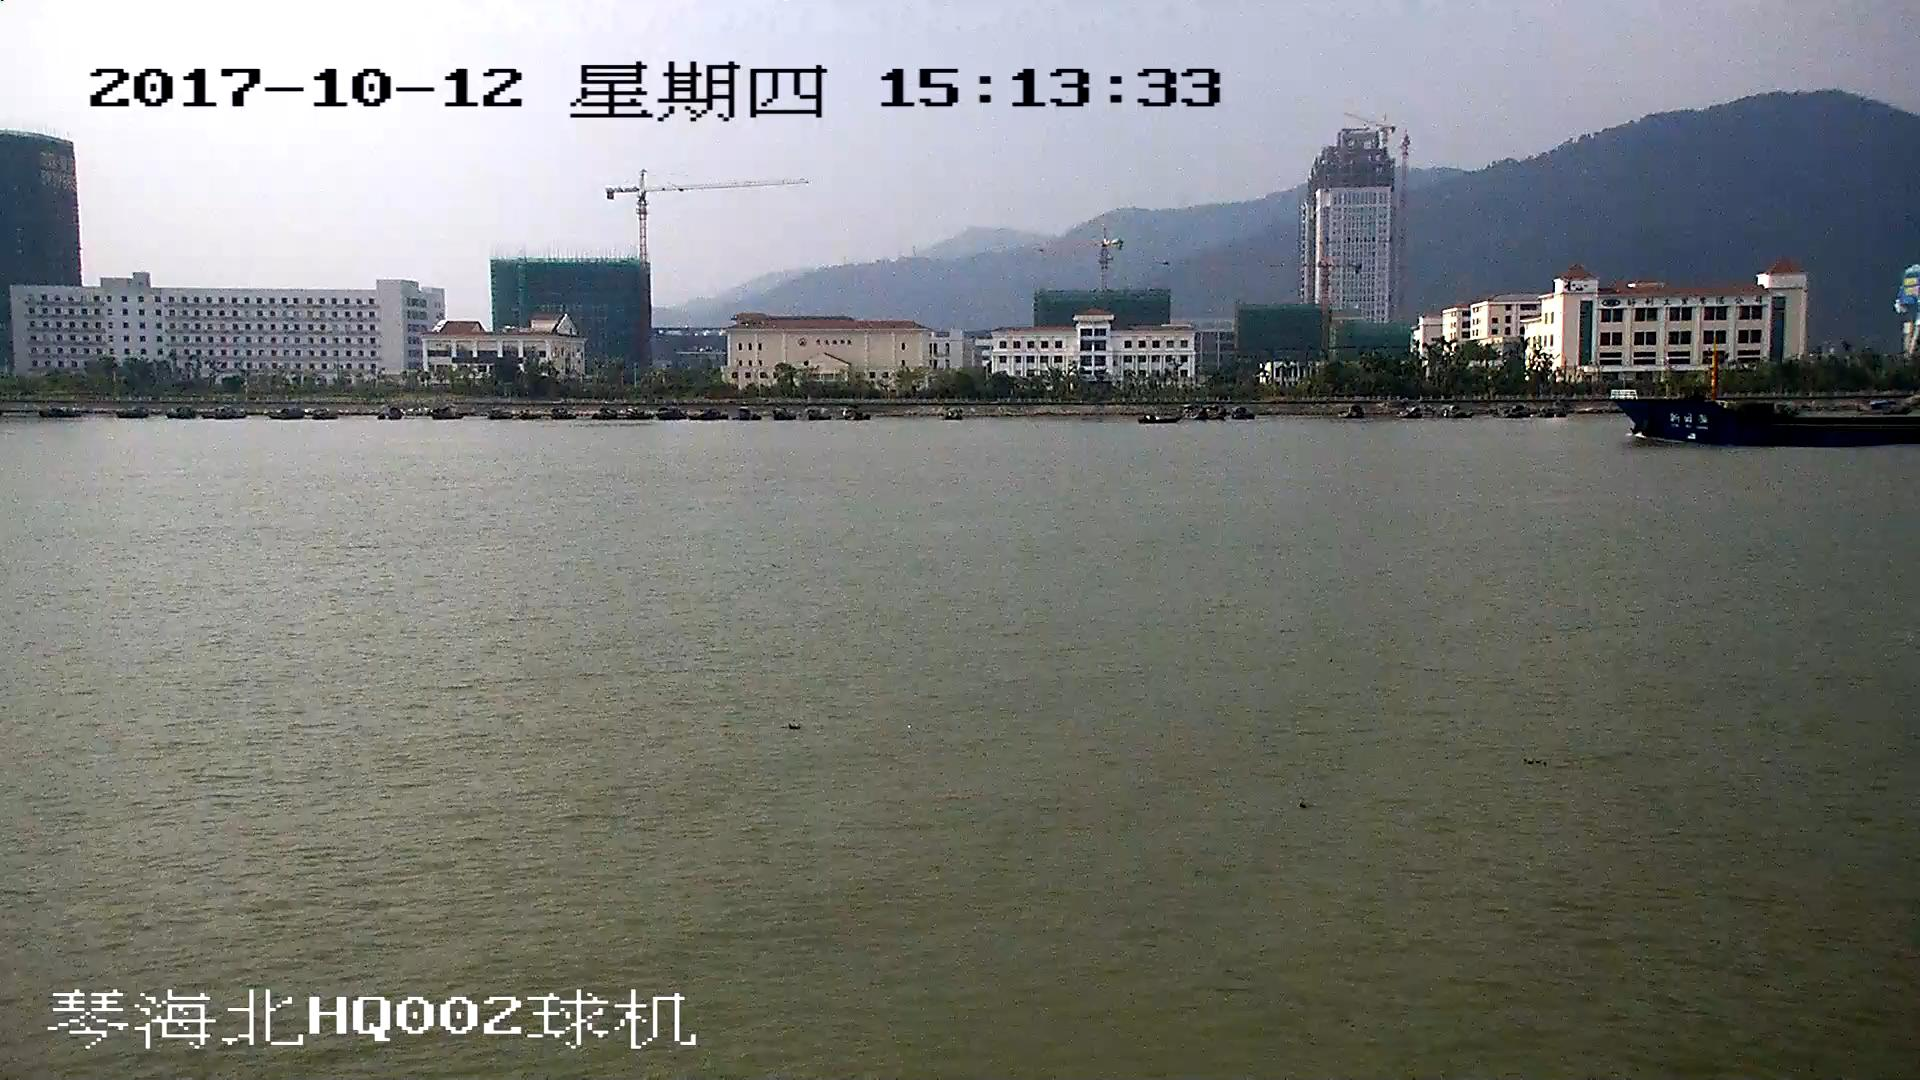general cargo ship: (1613, 385, 1920, 451)
